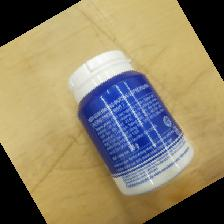Xylitol_blue: (69, 50, 195, 196)
